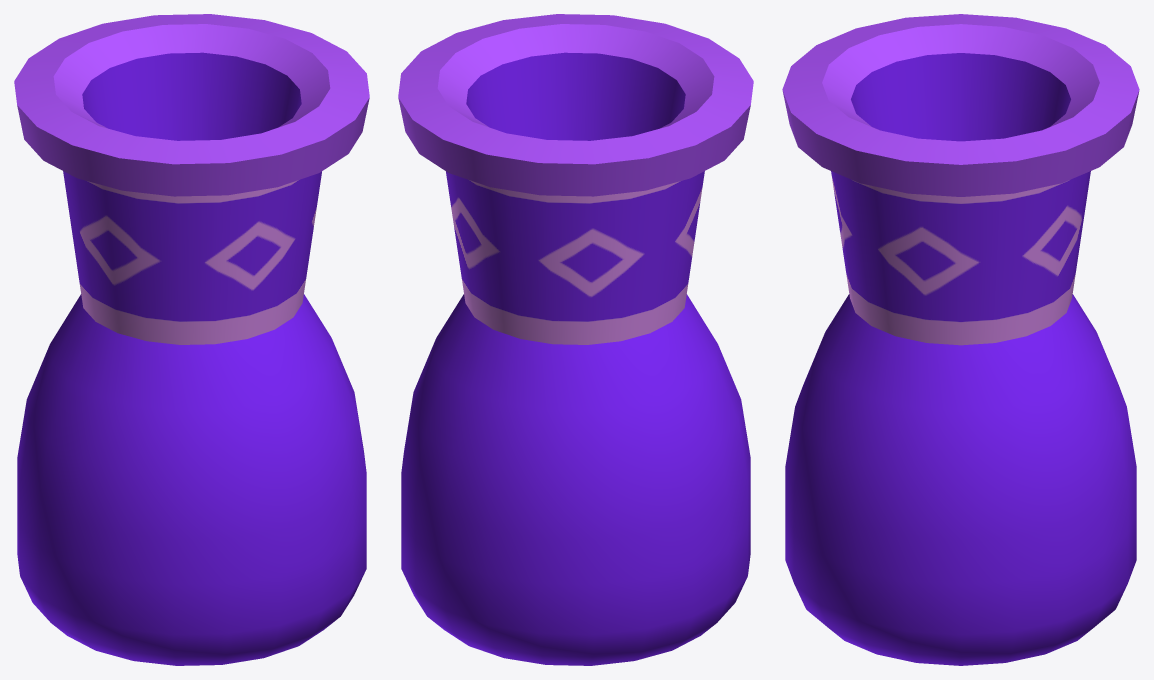
The model's file is Vase02.fbx.
3 views of the same model, side by side, from view 1: azimuth 30°, elevation 25°; view 2: azimuth 150°, elevation 25°; view 3: azimuth 270°, elevation 25° (orthographic).
Parts seen in each view (by area): view 1: Vase02; view 2: Vase02; view 3: Vase02.
Part boxes in pixels (box(x1,y1,x2,y2)): Vase02: box(14, 14, 369, 665); Vase02: box(398, 14, 753, 665); Vase02: box(782, 14, 1139, 665).
Bounding box in the file's own units: 227 × 374 × 227.
